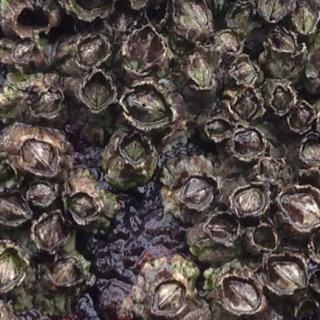Barnacle: (123, 81, 170, 126), (126, 28, 162, 73), (220, 279, 263, 316), (268, 255, 306, 291), (285, 189, 320, 228), (235, 183, 269, 220), (21, 139, 56, 173), (173, 0, 207, 34), (35, 213, 68, 246), (181, 175, 212, 209), (154, 281, 186, 313), (0, 248, 26, 287), (257, 0, 292, 28), (75, 36, 107, 66), (234, 91, 262, 123), (292, 0, 320, 32), (86, 74, 111, 109), (233, 128, 264, 156), (68, 193, 100, 220), (51, 258, 79, 287), (206, 216, 237, 242), (191, 53, 214, 87), (0, 193, 28, 220), (31, 90, 60, 116), (229, 2, 253, 33), (271, 30, 299, 55), (289, 104, 313, 133), (253, 221, 276, 250), (119, 138, 145, 163), (14, 37, 40, 61), (29, 183, 56, 206), (233, 58, 258, 82), (257, 158, 281, 181), (271, 87, 292, 112), (300, 139, 320, 165), (207, 120, 233, 140), (216, 33, 238, 55), (256, 174, 257, 175)
